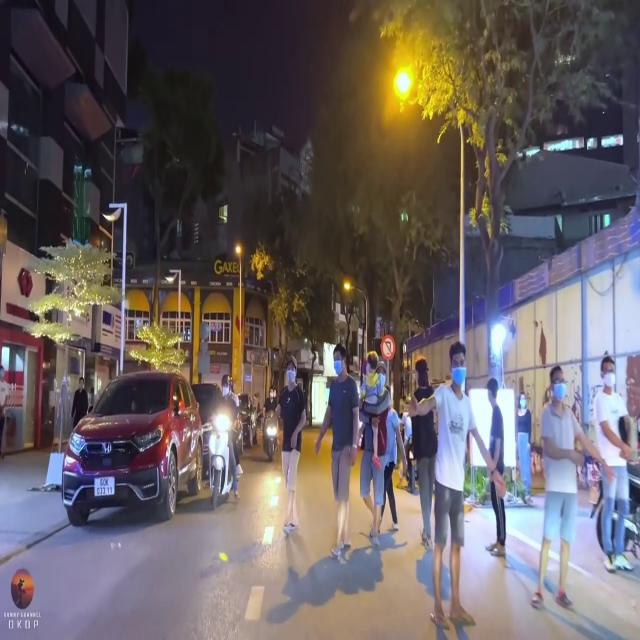bien_trang: (94, 476, 115, 499)
